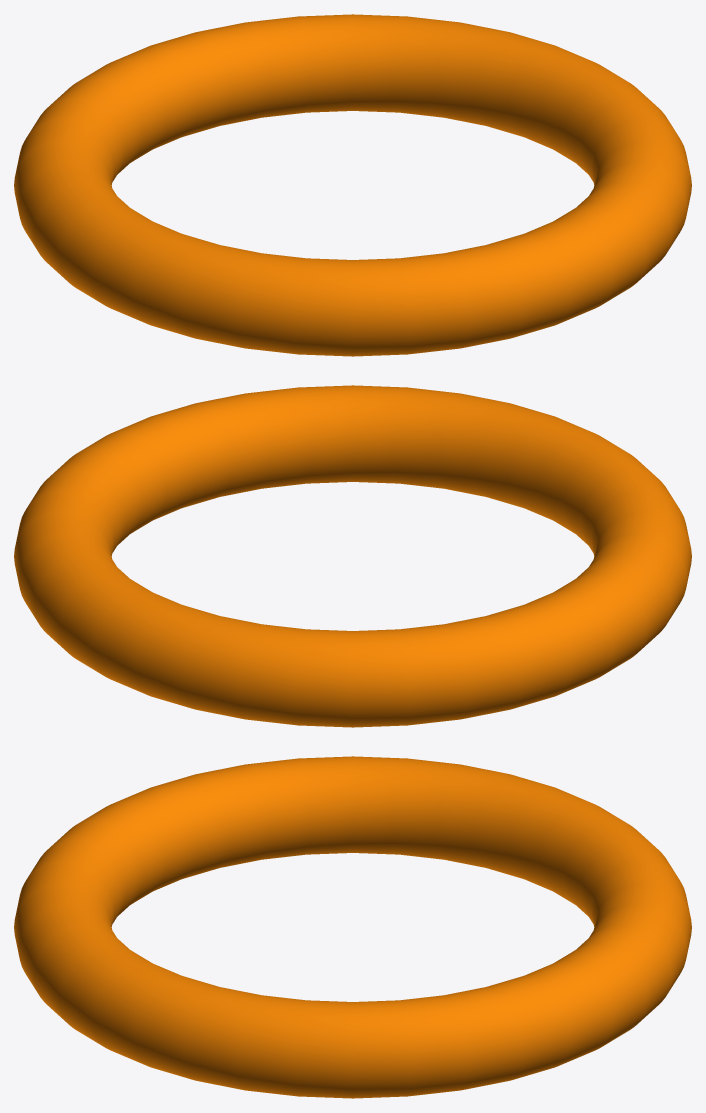
The picture shows the model from 3 angles, top to bottom: view 1: azimuth 30°, elevation 25°; view 2: azimuth 150°, elevation 25°; view 3: azimuth 270°, elevation 25°; orthographic projection.
Visible parts, largest first — view 1: Note; view 2: Note; view 3: Note.
Part boxes in pixels (bbox=[...]): Note: bbox=[14, 14, 691, 356]; Note: bbox=[14, 385, 691, 727]; Note: bbox=[14, 756, 691, 1098].
Size of the model in its own units: 0.3556 by 0.0508 by 0.3556.
